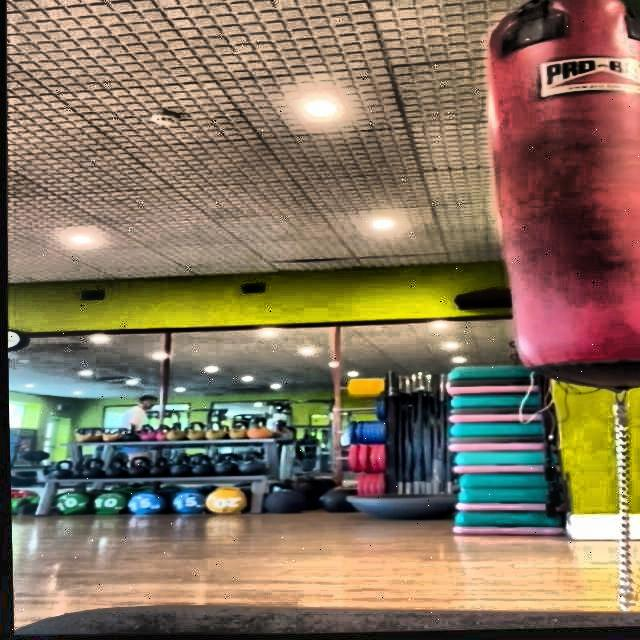boxing-bag: (480, 0, 640, 399)
